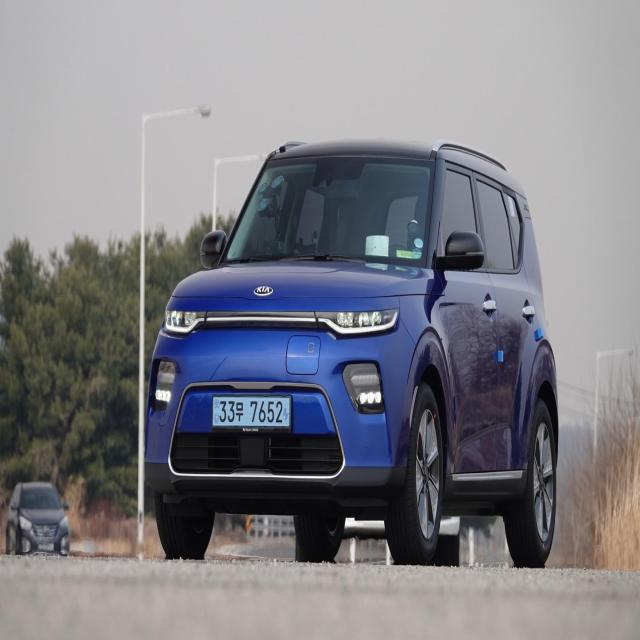EV_plate: (213, 384, 292, 442)
car: (142, 130, 561, 572)
